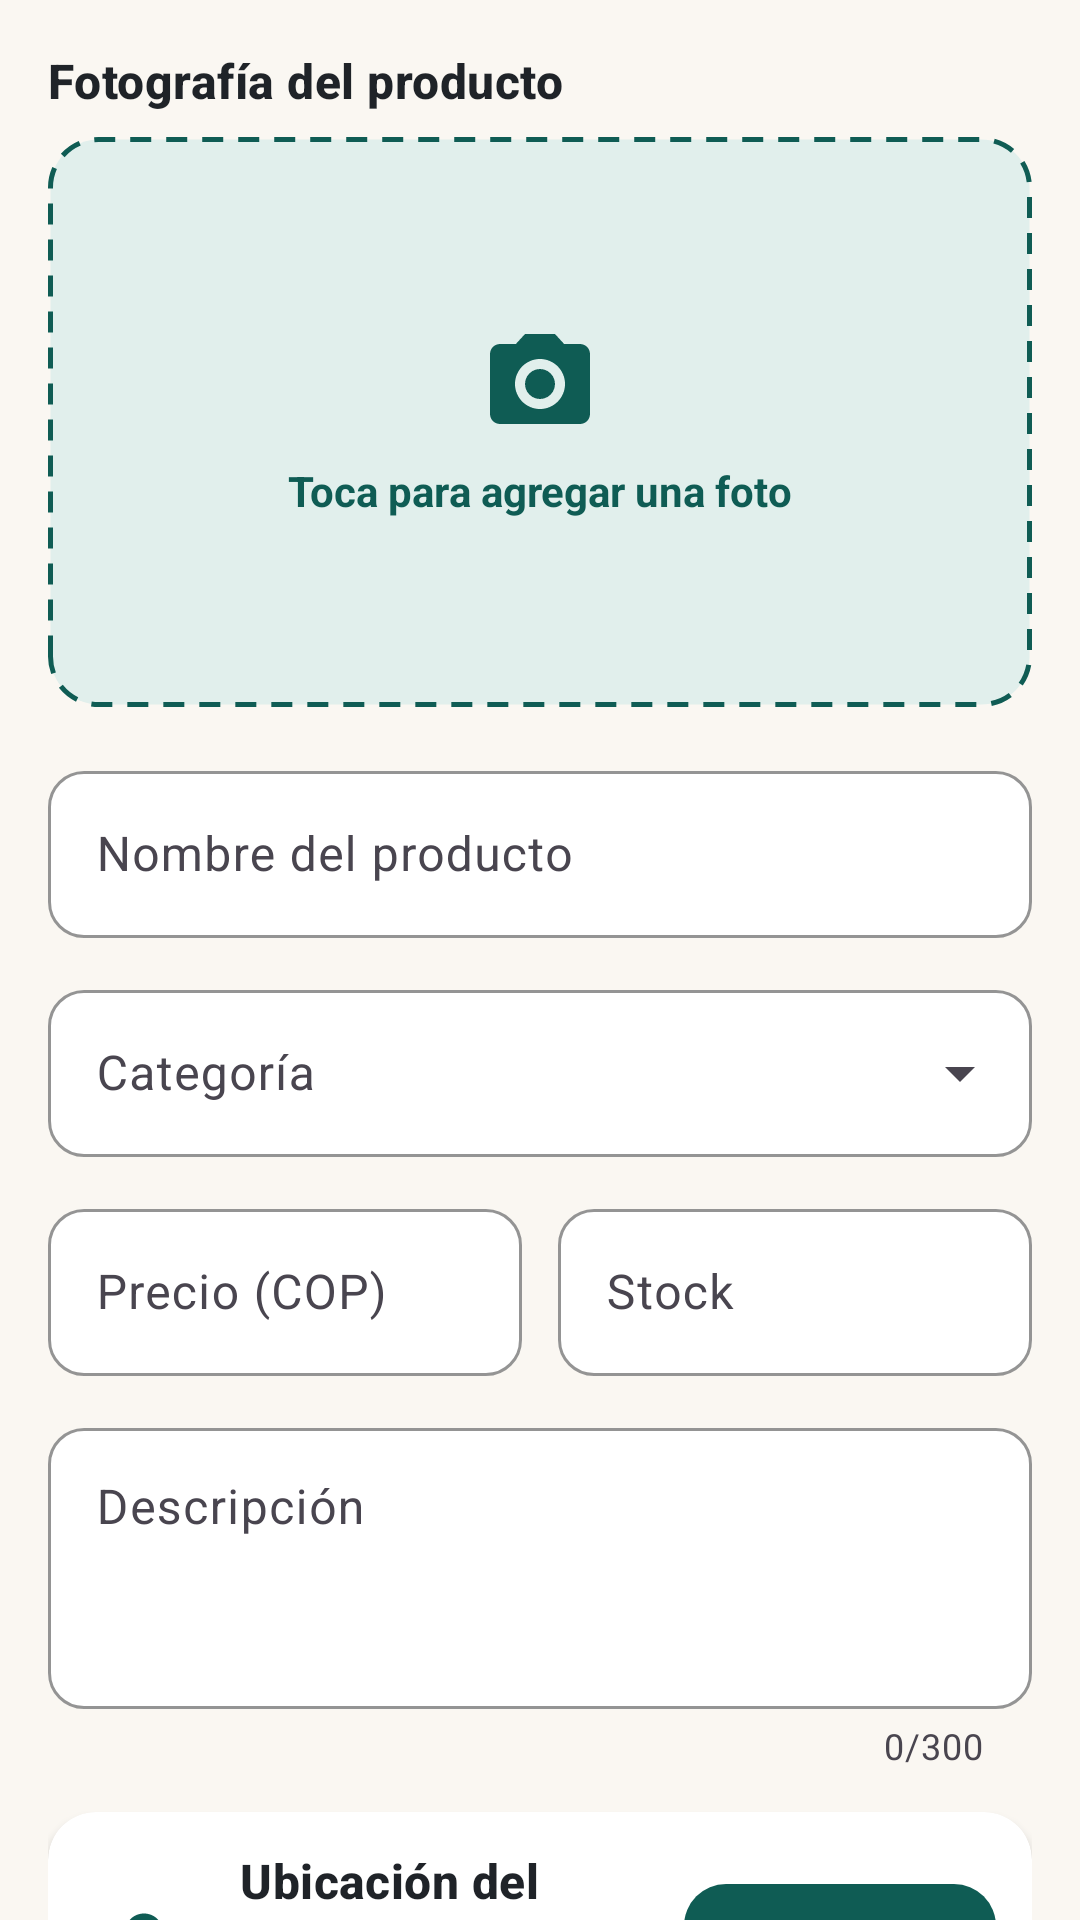

Named icons in this screenshot (1080px x 1920px) and their bounding boxes, (x1, y1, x2, y2):
camera: (490, 334, 590, 424)
